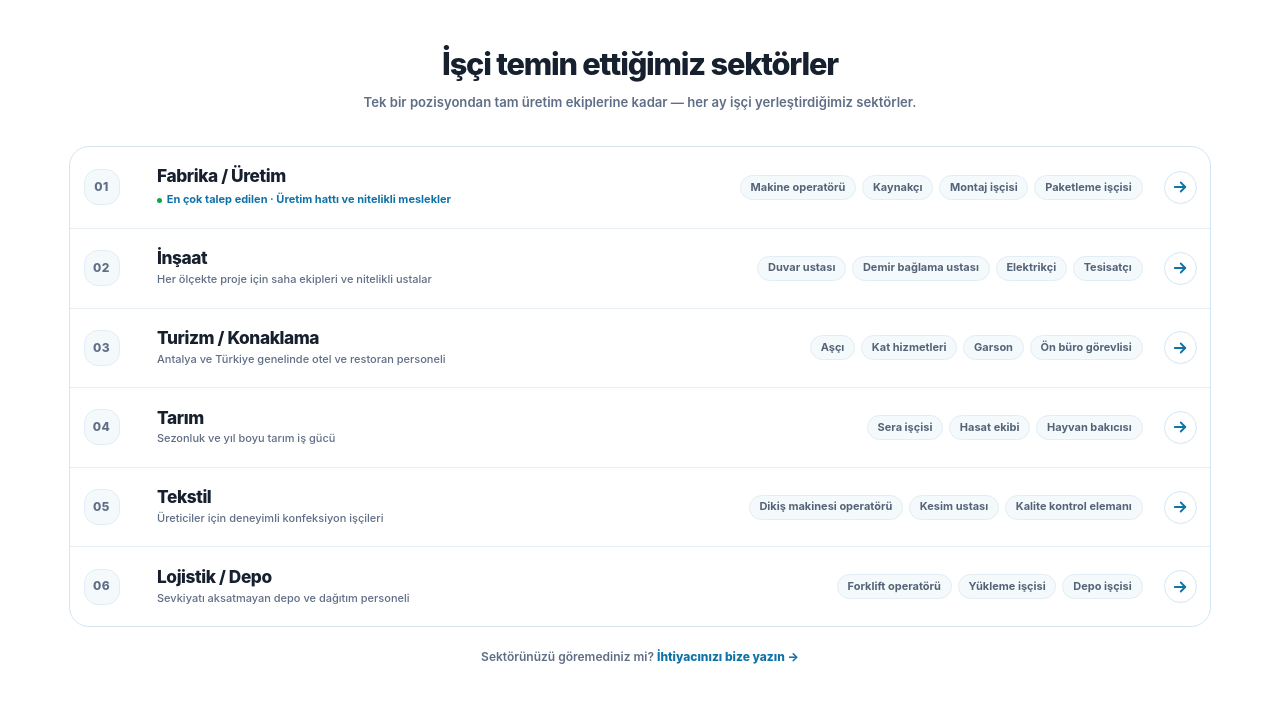
Test: Industries › six sector rows in design order, one open at a time, each CTA a #request-form anchor
Click the button "Tekstil" at coordinates (184, 498), box [157,487,211,508]
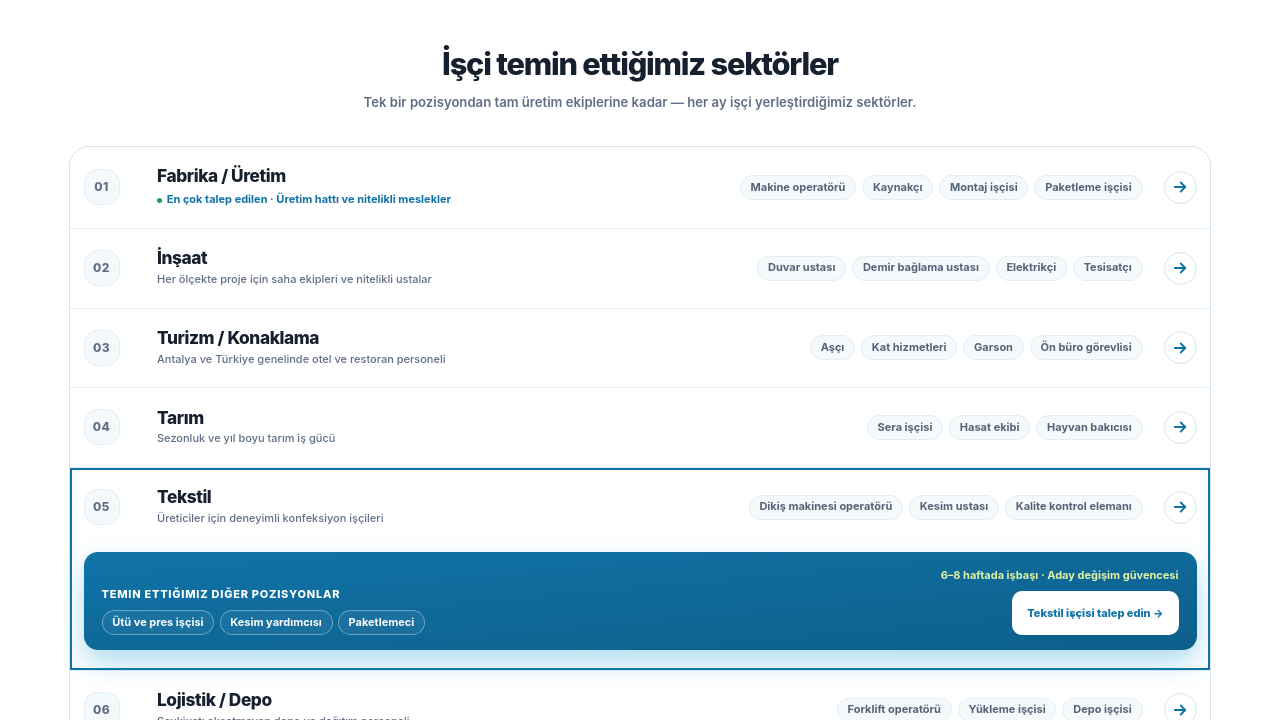
Click the button "Fabrika / Üretim" at coordinates (221, 176), box [157,166,286,187]
(page scrolled)
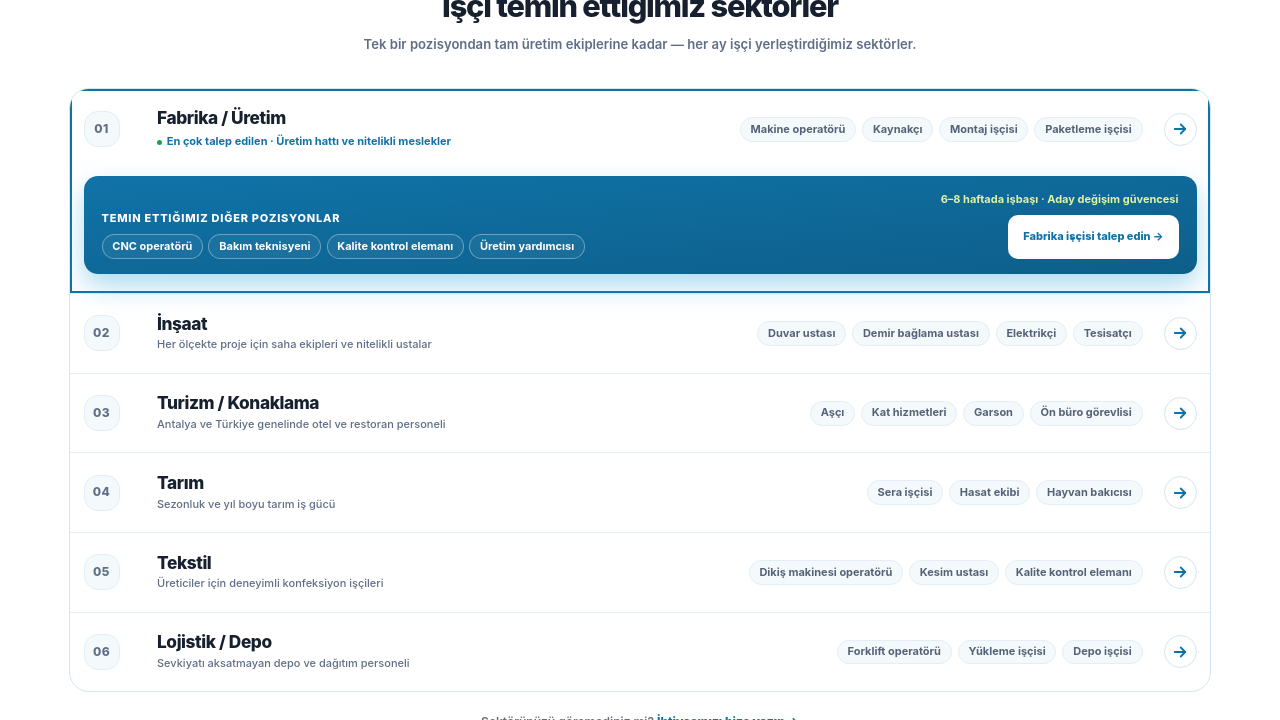
Now the button "Tekstil" is collapsed, box [157,552,211,573]
Now the element with test id "hire-industries" shows "CNC operatörü", box [112,238,192,252]
Now the element with test id "hire-industries" shows "Bakım teknisyeni", box [219,238,310,252]
